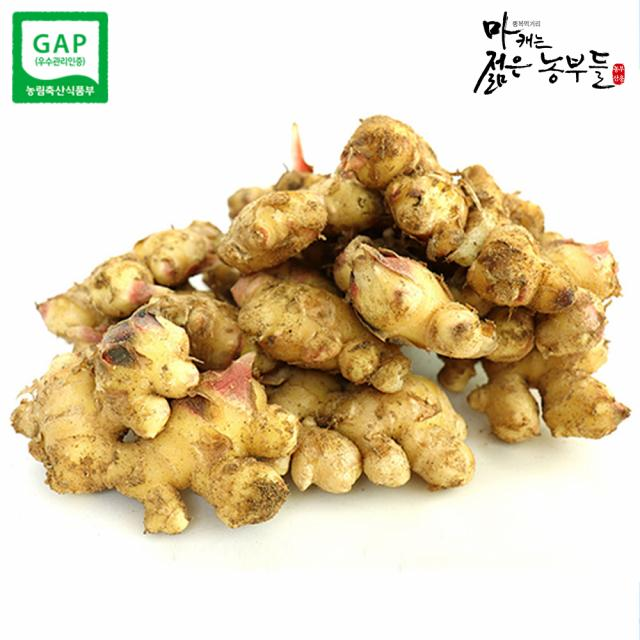ginger: (19, 131, 636, 534)
